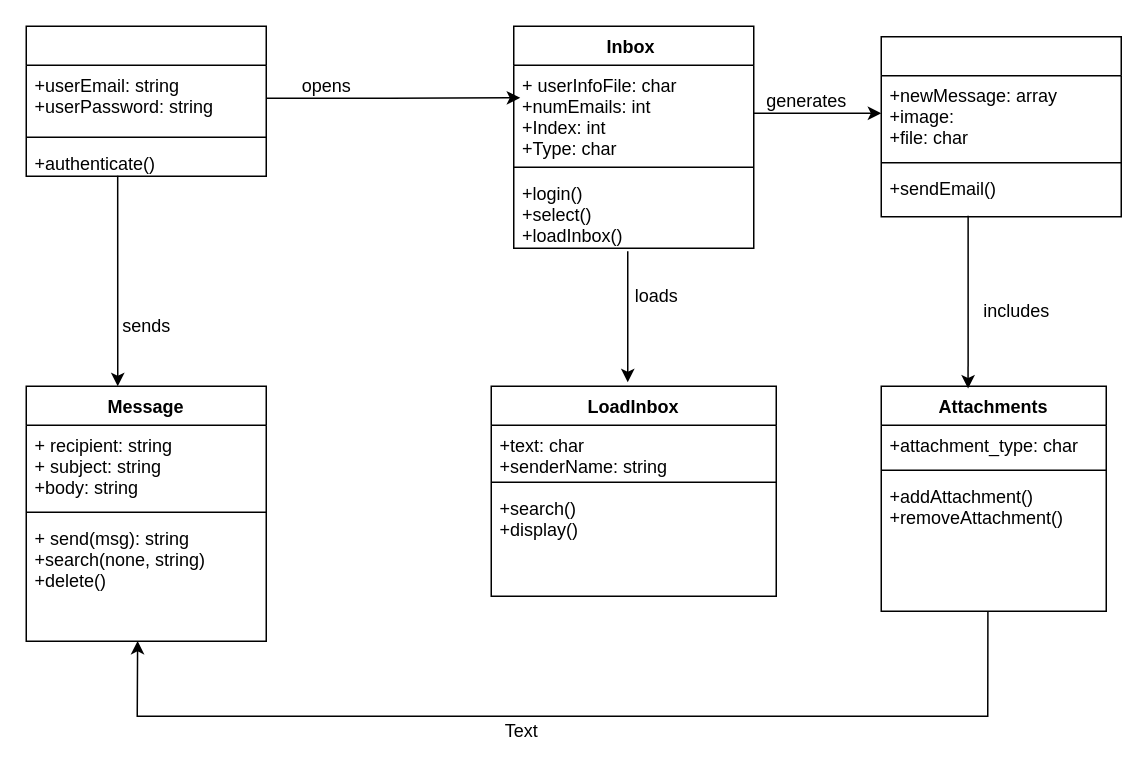
The diagram is 1148 pixels wide and 773 high, and some of its shapes have lost their labels. The box of each missing label's shape, as (x1, y1, x2, y2) in pixels:
SendMail: (880, 35, 1121, 217)
UserLogin: (25, 25, 266, 176)
